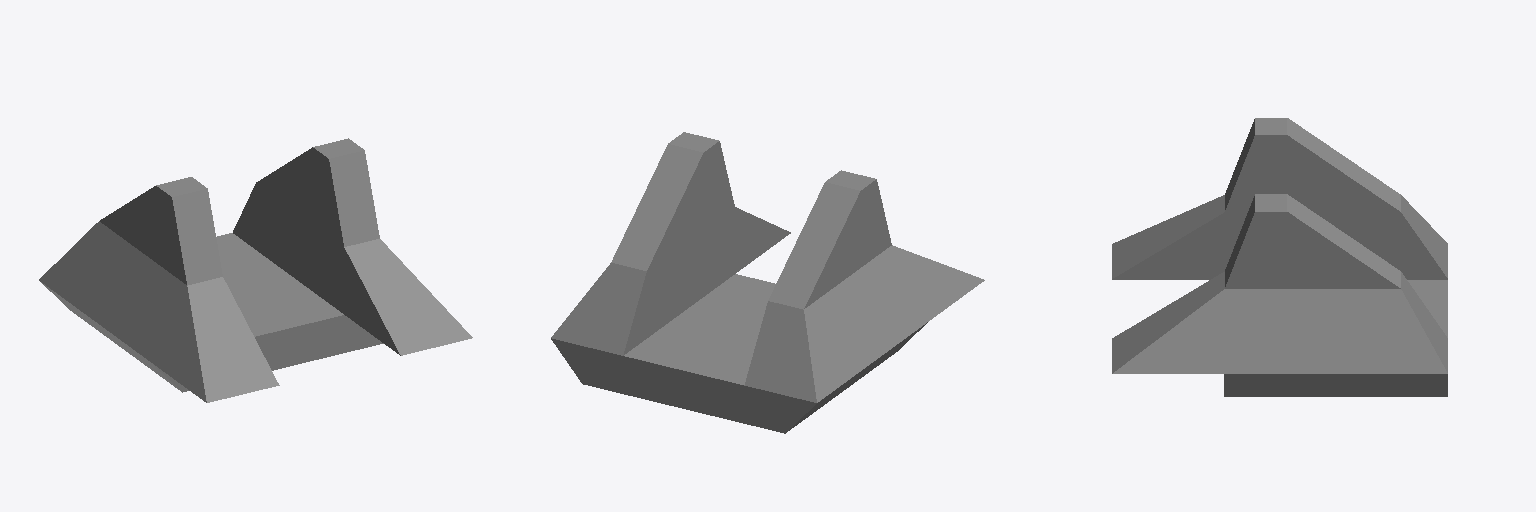
The model's file is turret.obj.
3 renders of one model, left to right at view 1: azimuth 30°, elevation 25°; view 2: azimuth 150°, elevation 25°; view 3: azimuth 270°, elevation 25°, orthographic.
Parts seen in each view (by area): view 1: Box01_sep4; view 2: Box01_sep4; view 3: Box01_sep4.
Part boxes in pixels (bbox=[...]): Box01_sep4: bbox=[39, 138, 472, 402]; Box01_sep4: bbox=[551, 132, 984, 433]; Box01_sep4: bbox=[1112, 118, 1447, 396].
Size of the model in its own units: 7.3 by 4.78 by 7.98.